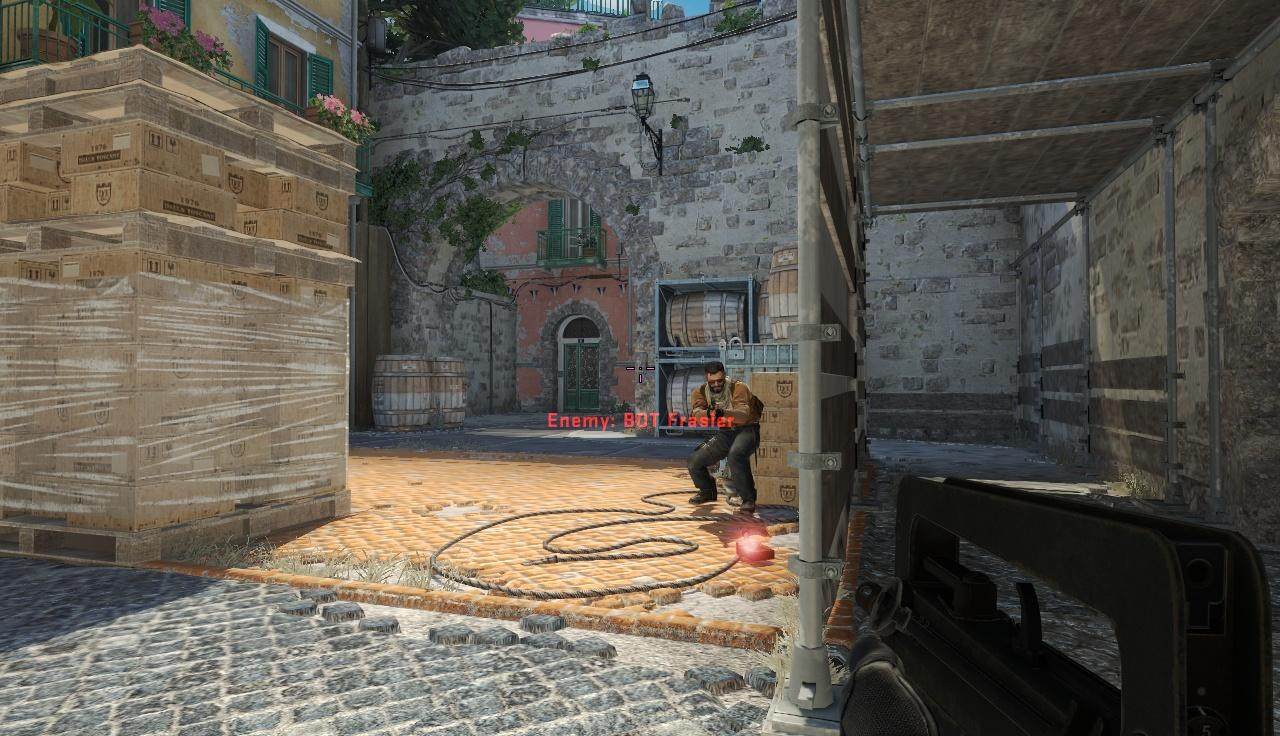rifle: (868, 481, 1280, 736)
tt: (692, 363, 757, 516)
tthead: (705, 361, 726, 392)
